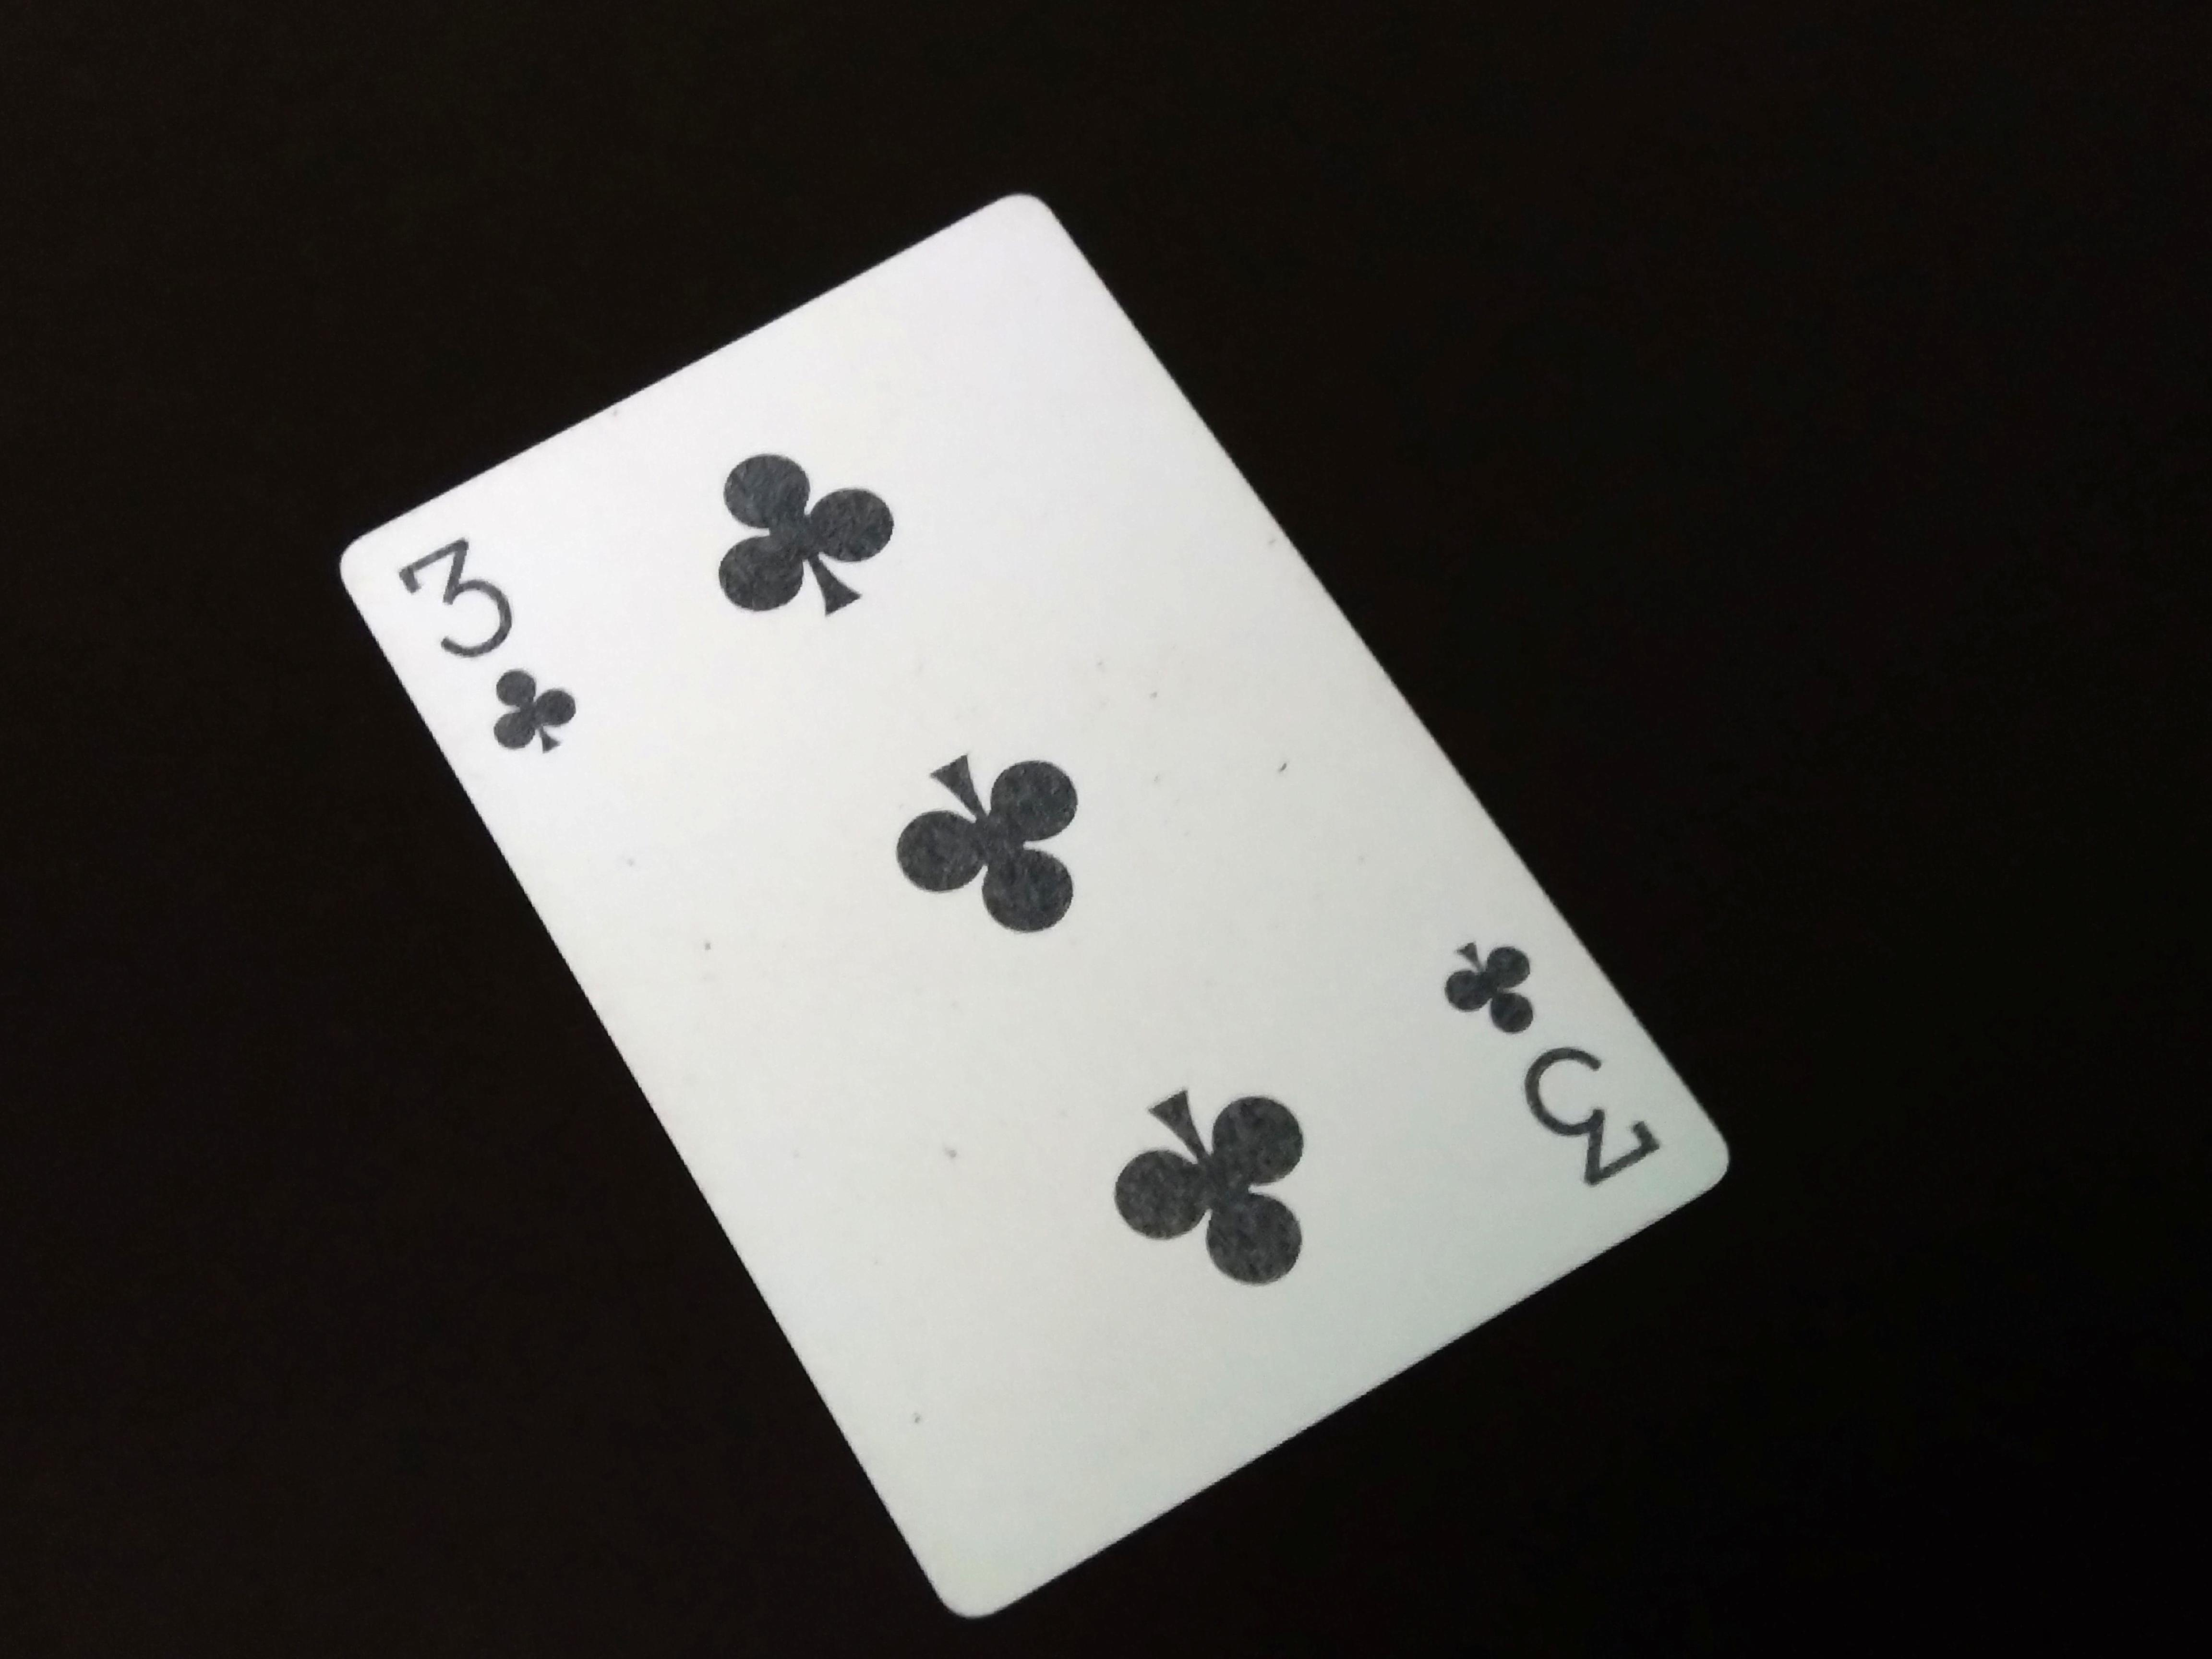3C: (364, 530, 582, 760)
